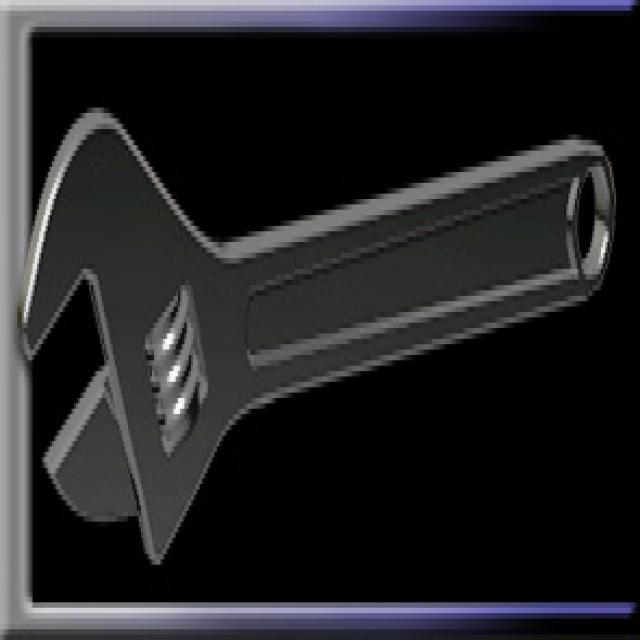wrench: (16, 85, 618, 552)
